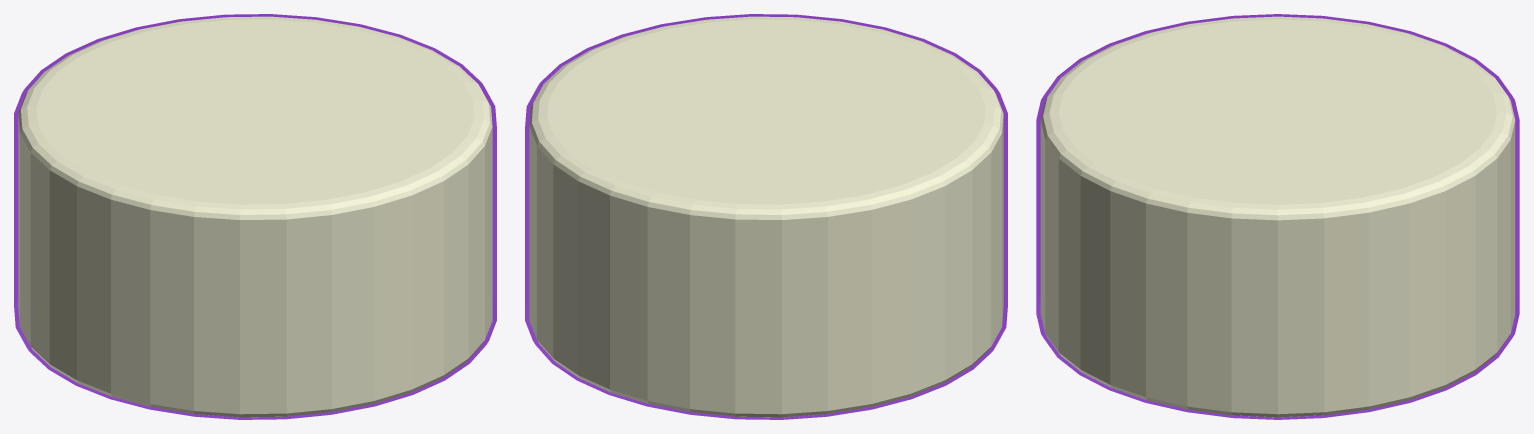
Rendered from circulo bolo.glb.
The picture shows the model from 3 angles, left to right: view 1: azimuth 30°, elevation 25°; view 2: azimuth 150°, elevation 25°; view 3: azimuth 270°, elevation 25°; orthographic projection.
Parts seen in each view (by area): view 1: Cylinder.003; view 2: Cylinder.003; view 3: Cylinder.003.
Boxes of the visible parts, bbox=[...] form: Cylinder.003: bbox=[14, 14, 496, 419]; Cylinder.003: bbox=[525, 14, 1007, 419]; Cylinder.003: bbox=[1036, 14, 1519, 419].
Size of the model in its own units: 20.47 by 9.98 by 20.47.
